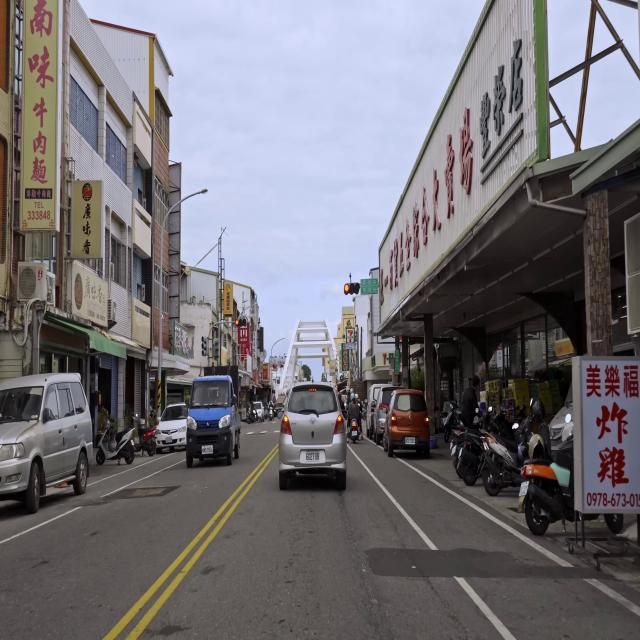red light: (343, 282, 360, 295), (235, 318, 247, 327)
